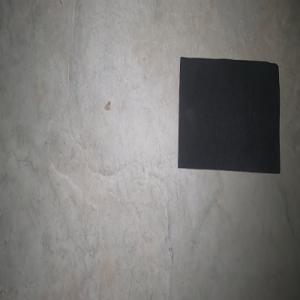PaintChip: (177, 56, 280, 174)
